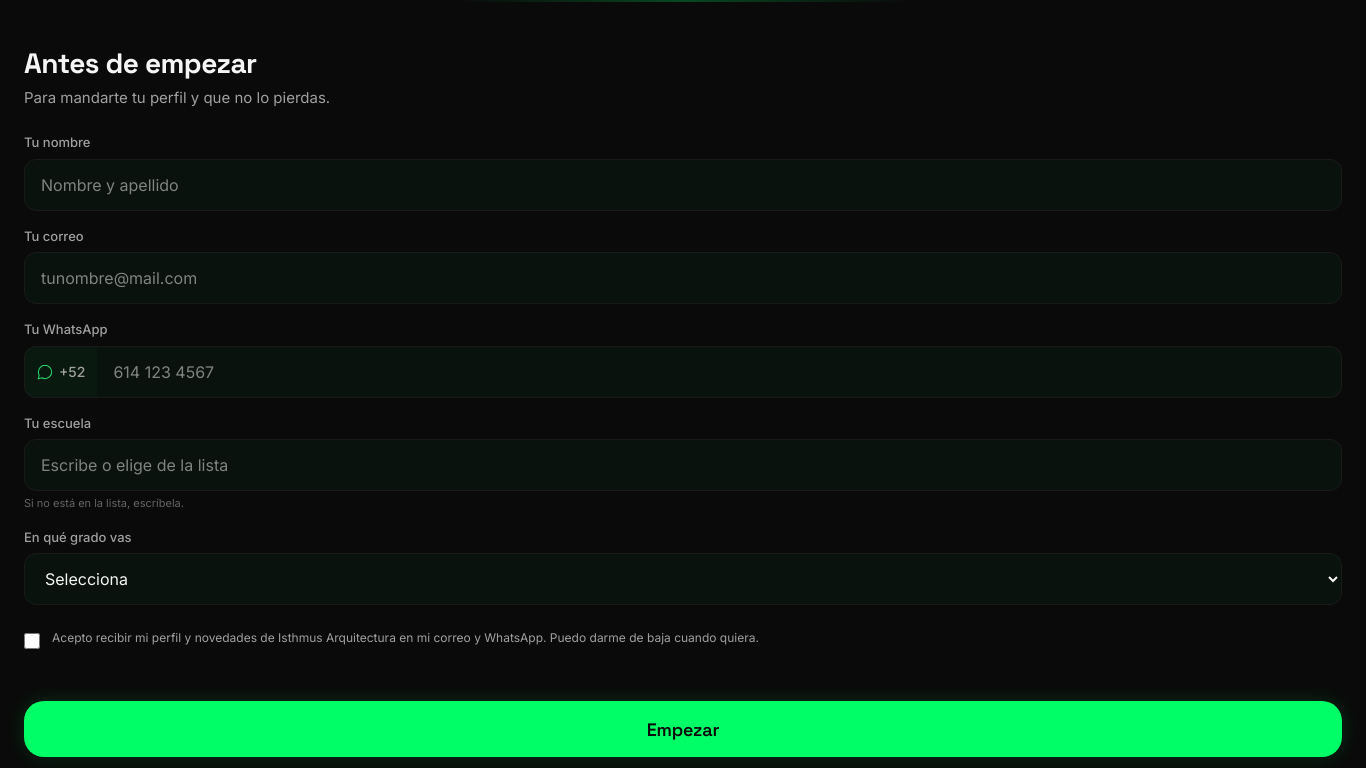
Scenario: LeadForm — validation › blocks submit when email format is invalid
Type "Maria" into the field labelled "Tu nombre". click: coordinates (683, 185)
box: [24,159,1342,211]
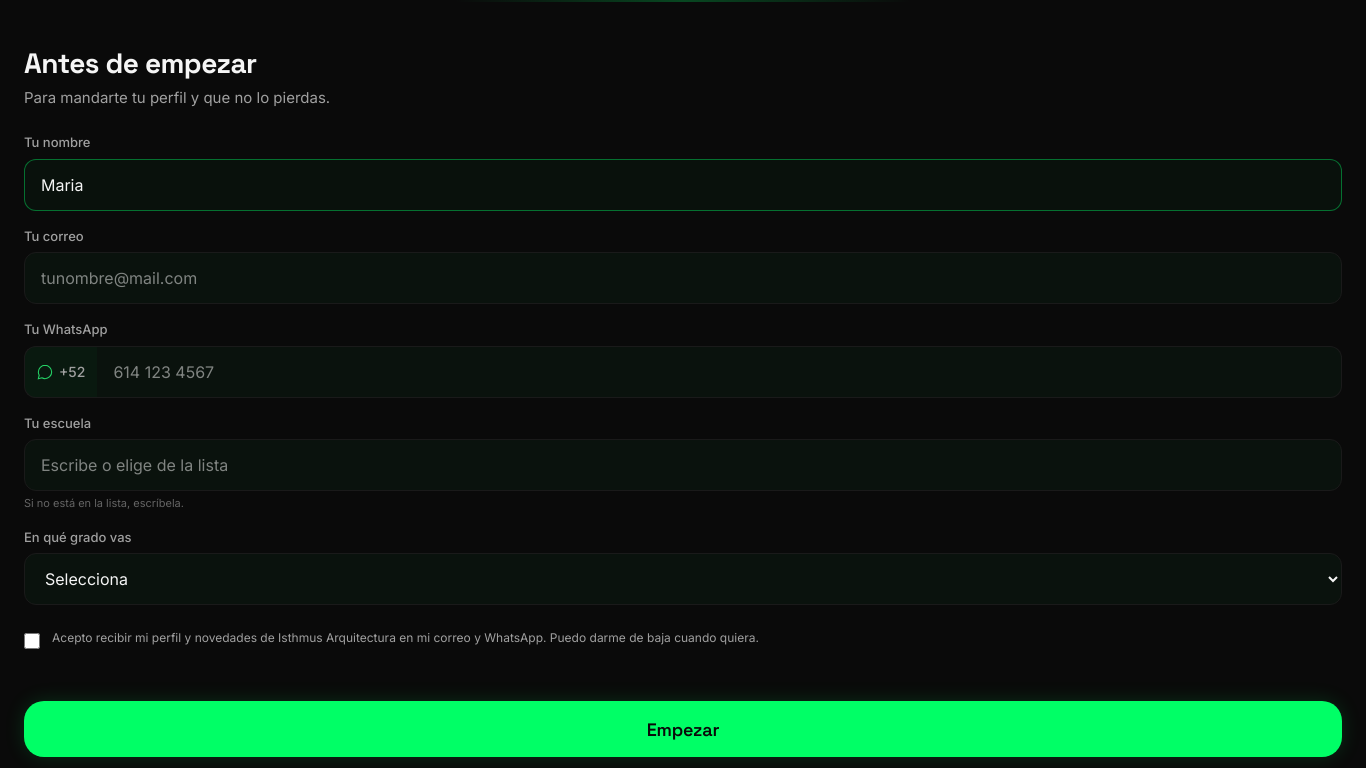
Type "not-an-email" into the field labelled "Tu correo". click: coordinates (683, 278)
box: [24,252,1342,304]
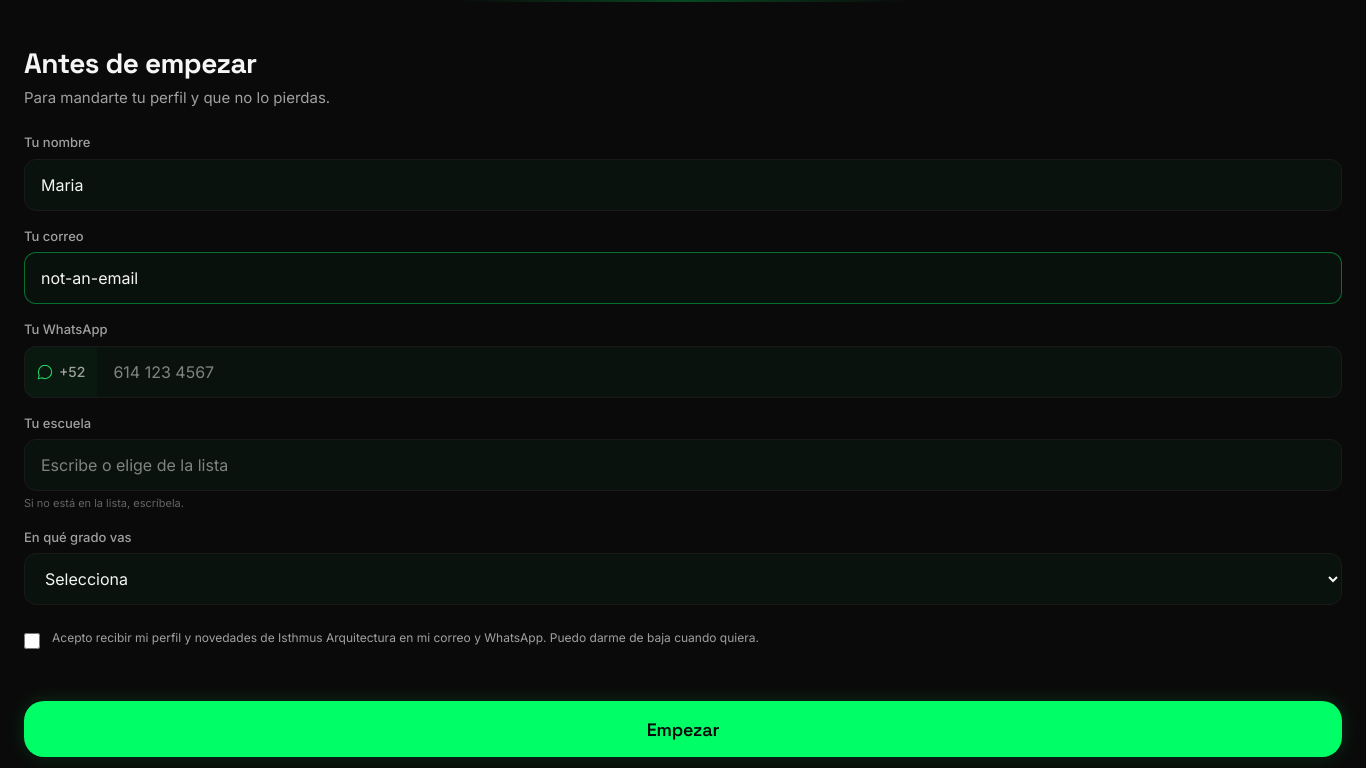
Click the button "Empezar". click: coordinates (683, 729)
box: [24,701,1342,757]
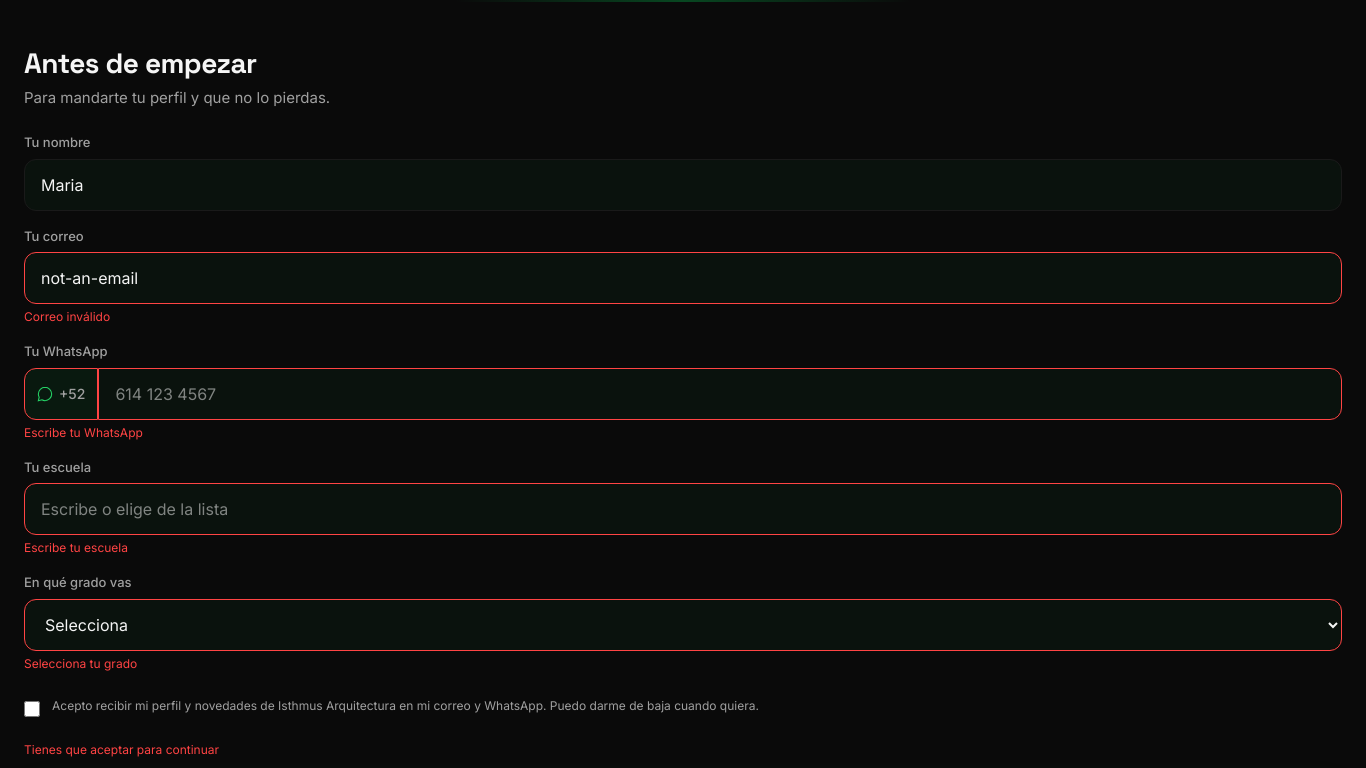
Now the text "Correo inválido" is shown, box [24,309,110,324]
